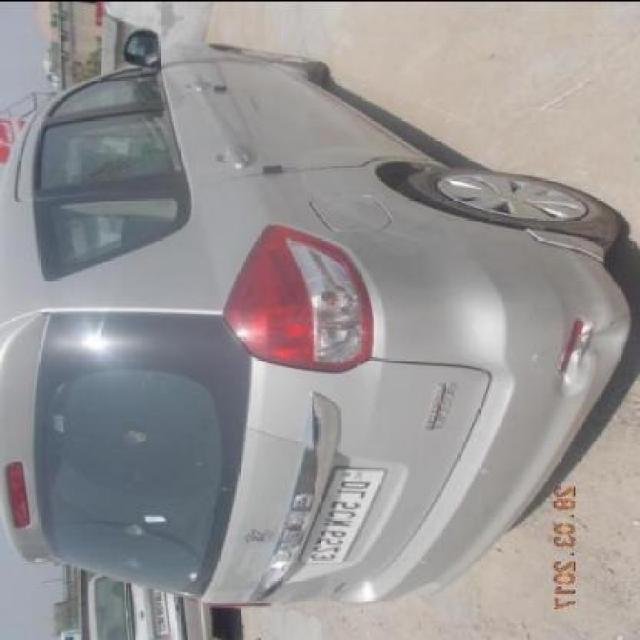damage: (581, 309, 634, 364)
